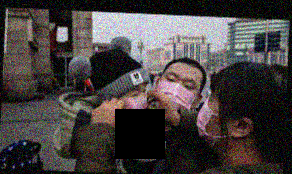with_mask: (194, 92, 232, 148), (155, 70, 199, 115), (118, 82, 146, 118)
